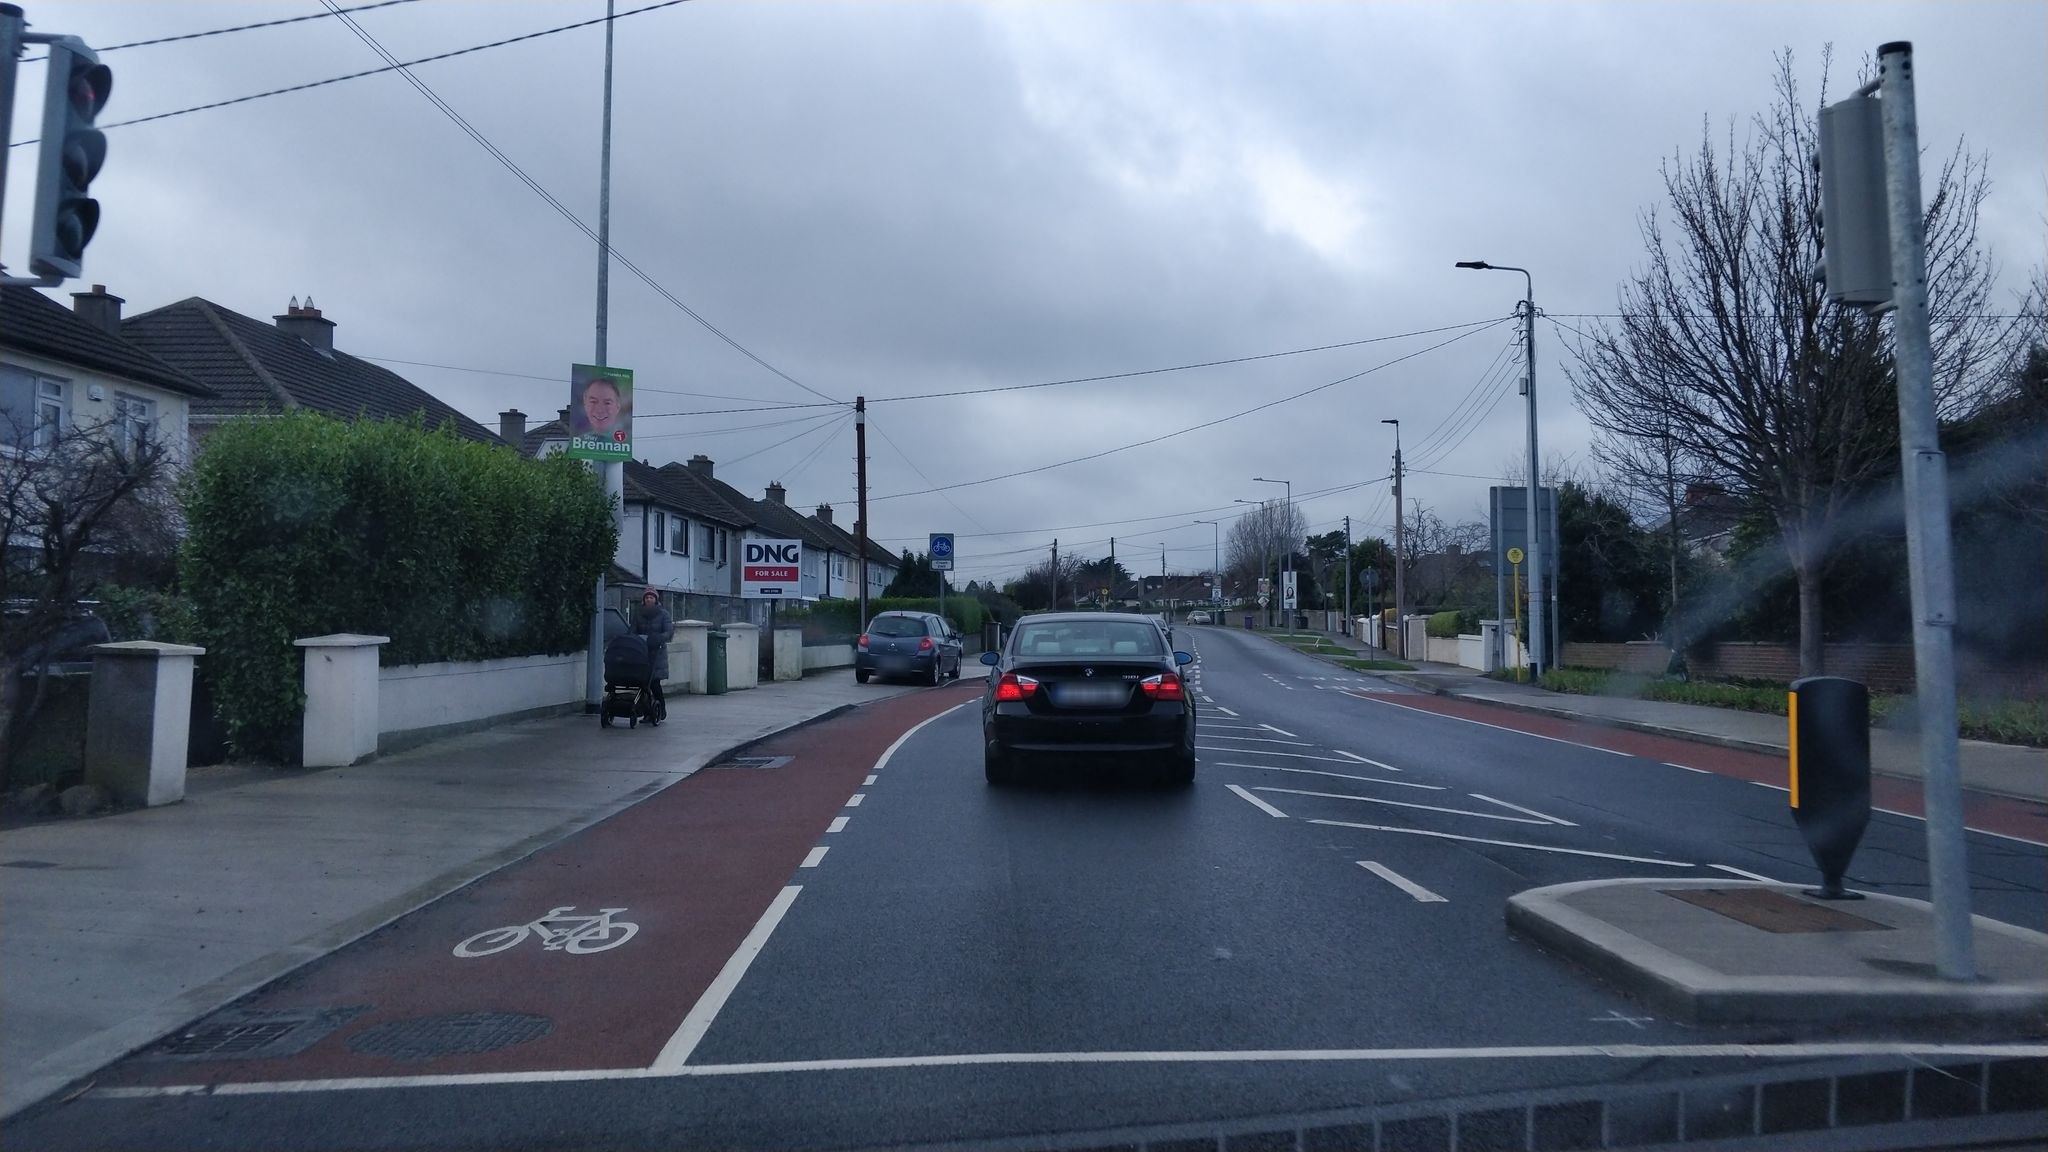property sign: (730, 527, 810, 606)
